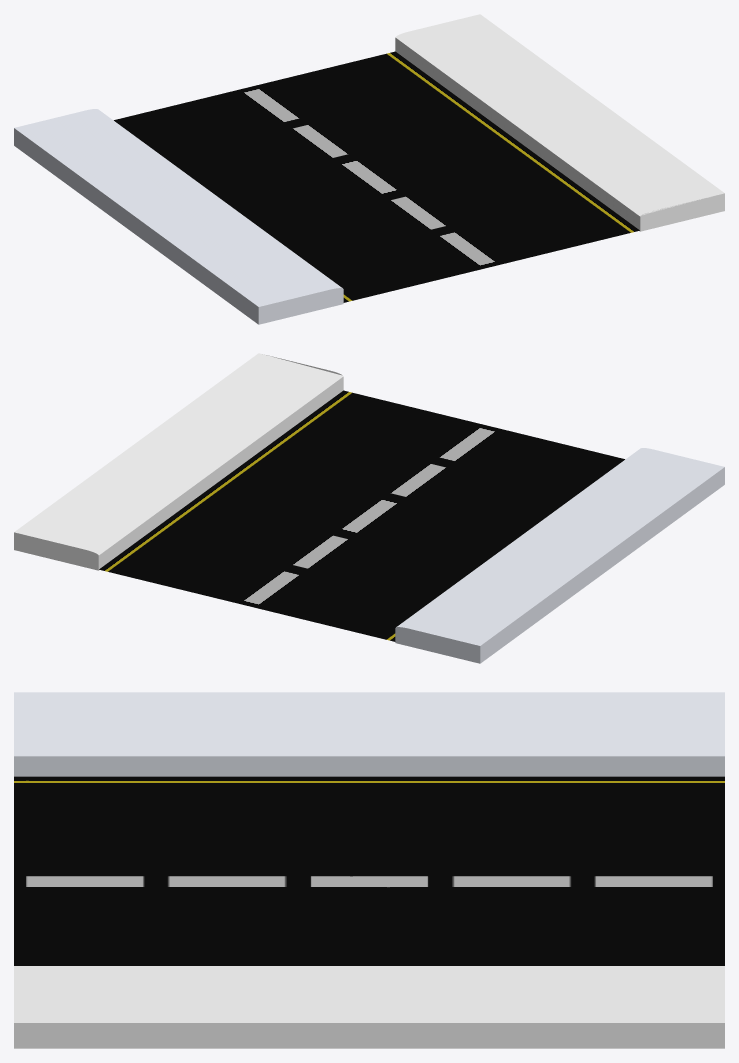
File: small road.glb
3 renders of one model, top to bottom at view 1: azimuth 30°, elevation 25°; view 2: azimuth 150°, elevation 25°; view 3: azimuth 270°, elevation 25°, orthographic. The views are drawn at different scales.
Visible parts, largest first — view 1: Road; view 2: Road; view 3: Road.
Part boxes in pixels (<box>): Road: <box>14,14,724,324</box>; Road: <box>14,353,724,663</box>; Road: <box>14,692,724,1048</box>.
Bounding box in the file's own units: 22 × 0.8 × 20.
3 materials, 1 textured.
